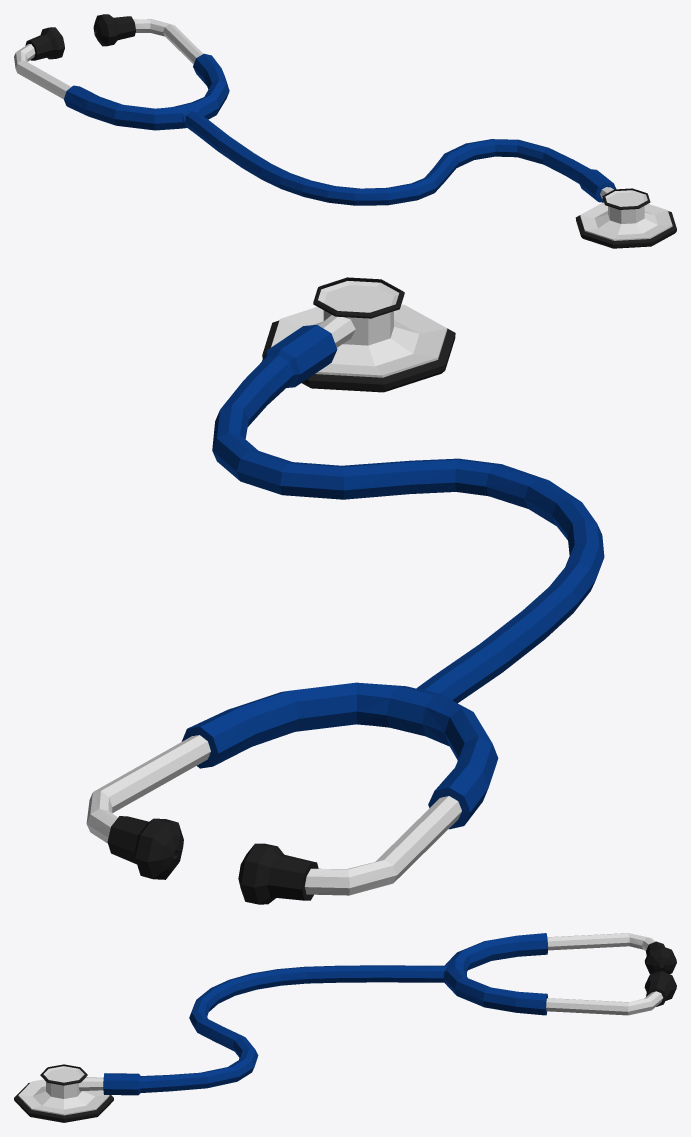
Rendered from stethoscope.glb.
3 renders of one model, top to bottom at view 1: azimuth 30°, elevation 25°; view 2: azimuth 150°, elevation 25°; view 3: azimuth 270°, elevation 25°, orthographic. The views are drawn at different scales.
Parts seen in each view (by area): view 1: contract; view 2: contract; view 3: contract.
Boxes of the visible parts, x1,y1,x2,y2 form: contract: (14,14,676,248); contract: (86,277,604,904); contract: (14,933,676,1122).
Size of the model in its own units: 0.3 by 0.0279 by 0.5.
